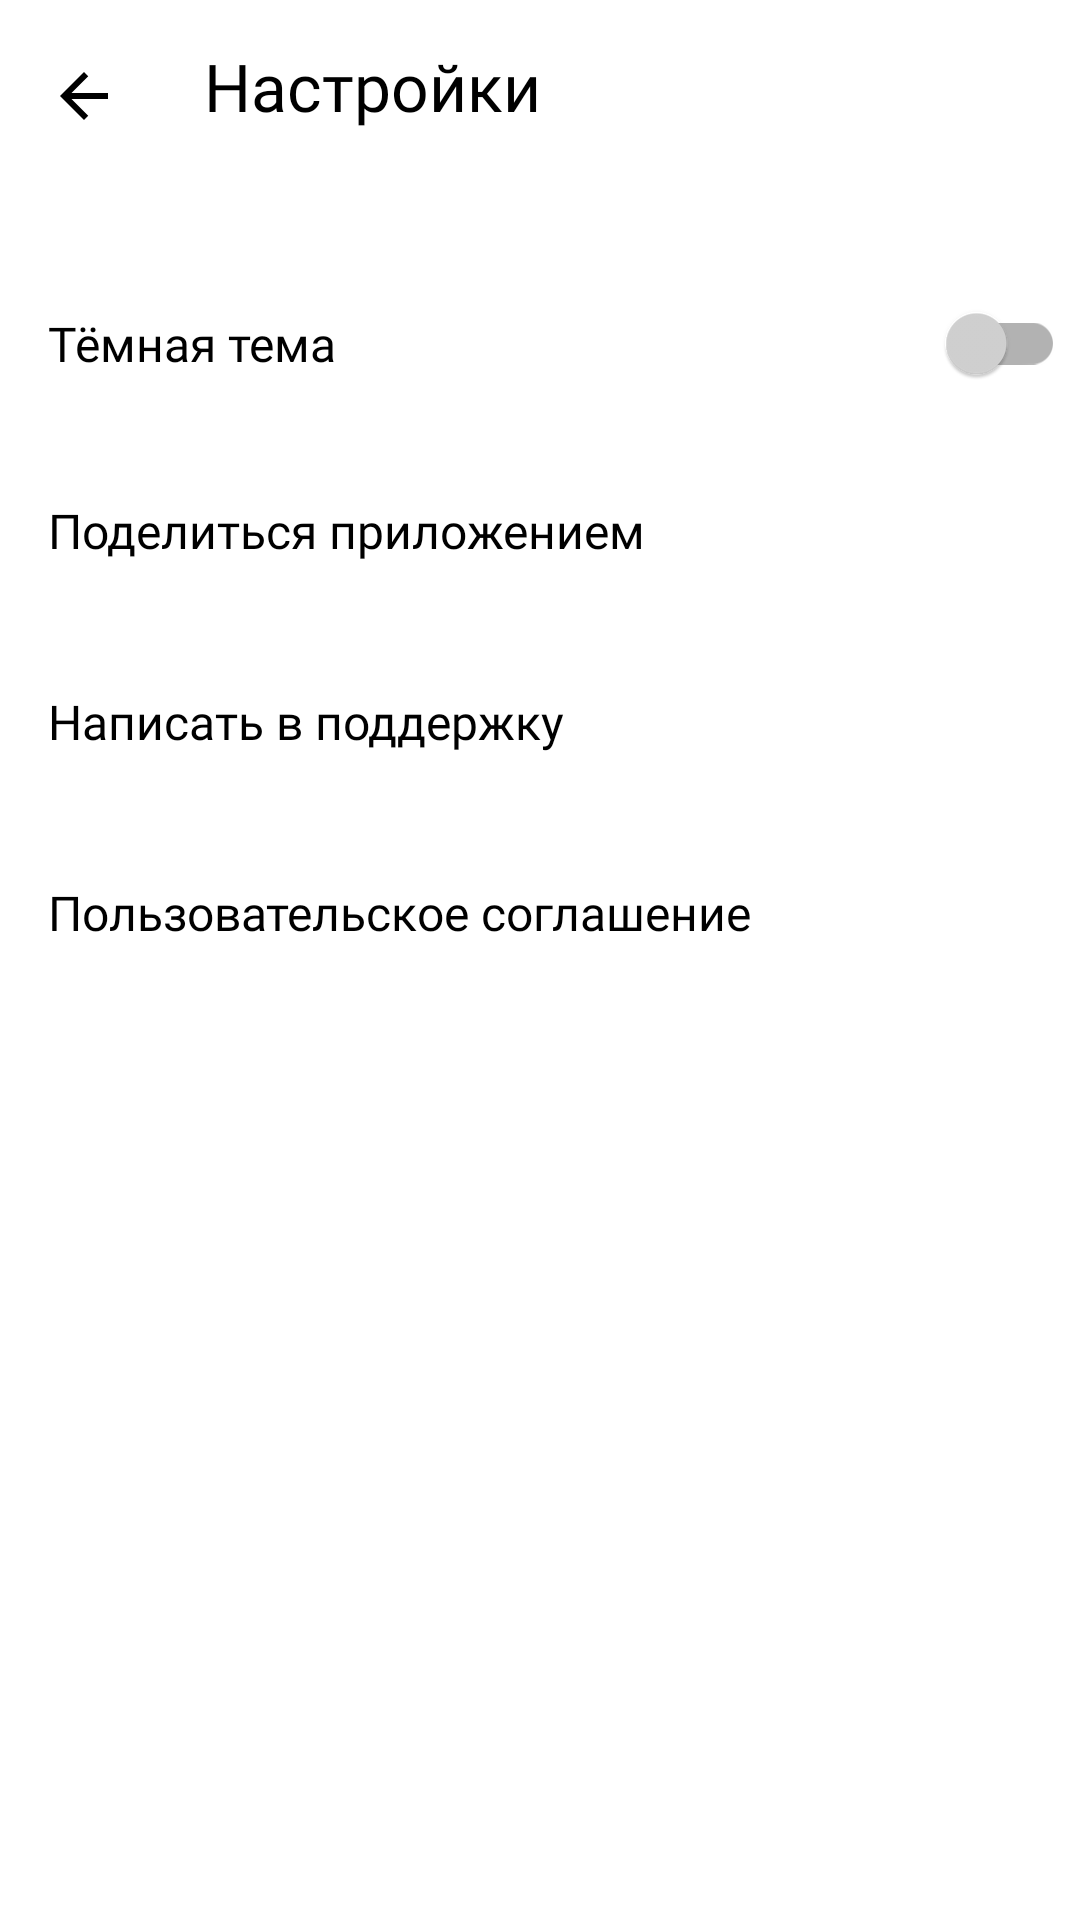

Icon click points for this 1080×1920 phone screenshot, format point (x, y):
arrow: point (84, 96)
